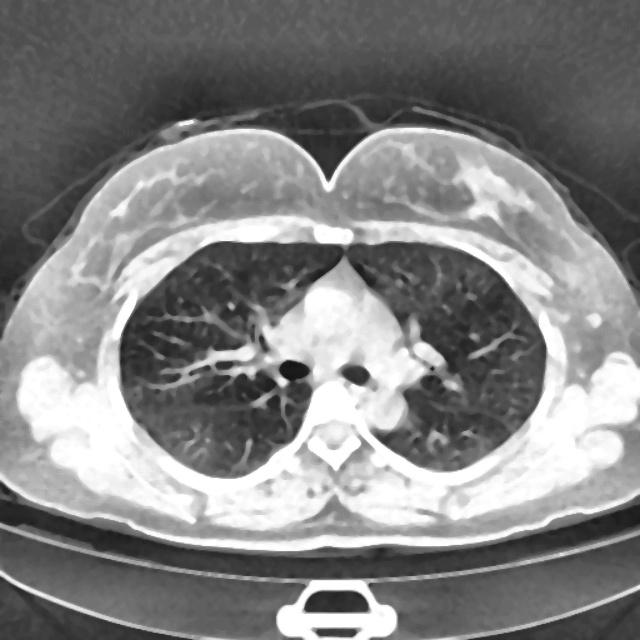covid: (0, 109, 639, 558)
